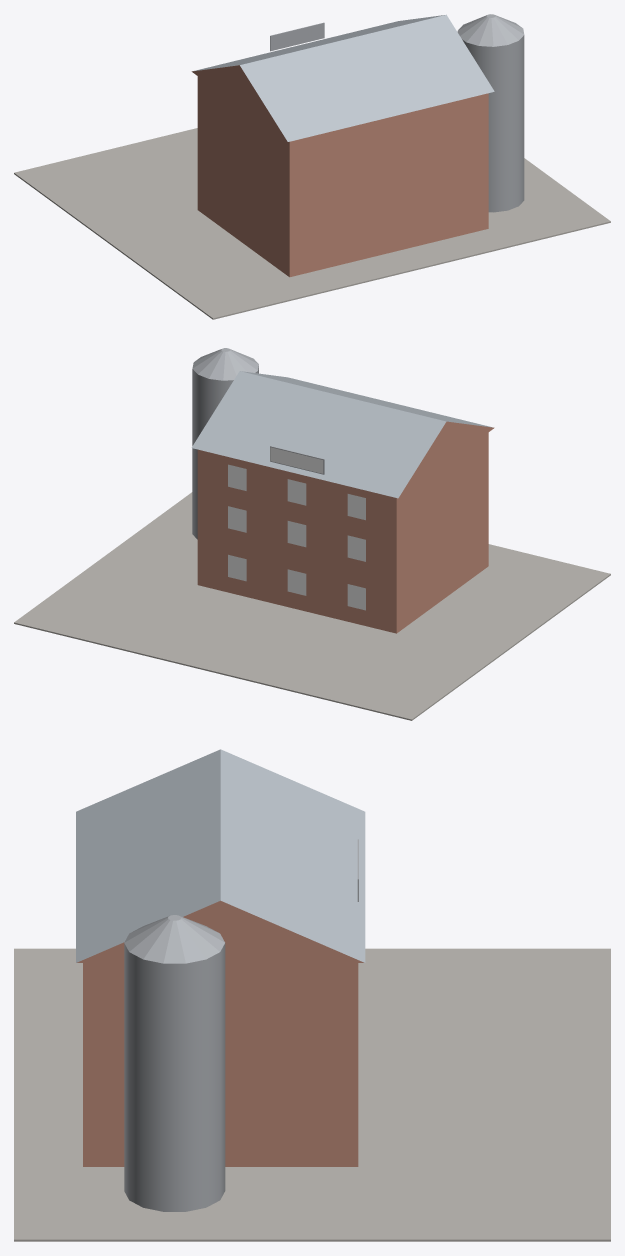
Rendered from flour_mill.glb.
The picture shows the model from 3 angles, top to bottom: view 1: azimuth 30°, elevation 25°; view 2: azimuth 150°, elevation 25°; view 3: azimuth 270°, elevation 25°; orthographic projection. The views are drawn at different scales.
Parts seen in each view (by area): view 1: flour_mill; view 2: flour_mill; view 3: flour_mill.
Boxes of the visible parts, left/top/right/bottom form: flour_mill: left=14, top=14, right=610, bottom=319; flour_mill: left=14, top=348, right=610, bottom=720; flour_mill: left=14, top=749, right=610, bottom=1241.
Size of what is drawn, in the model's own units: 30 by 13.23 by 26.
